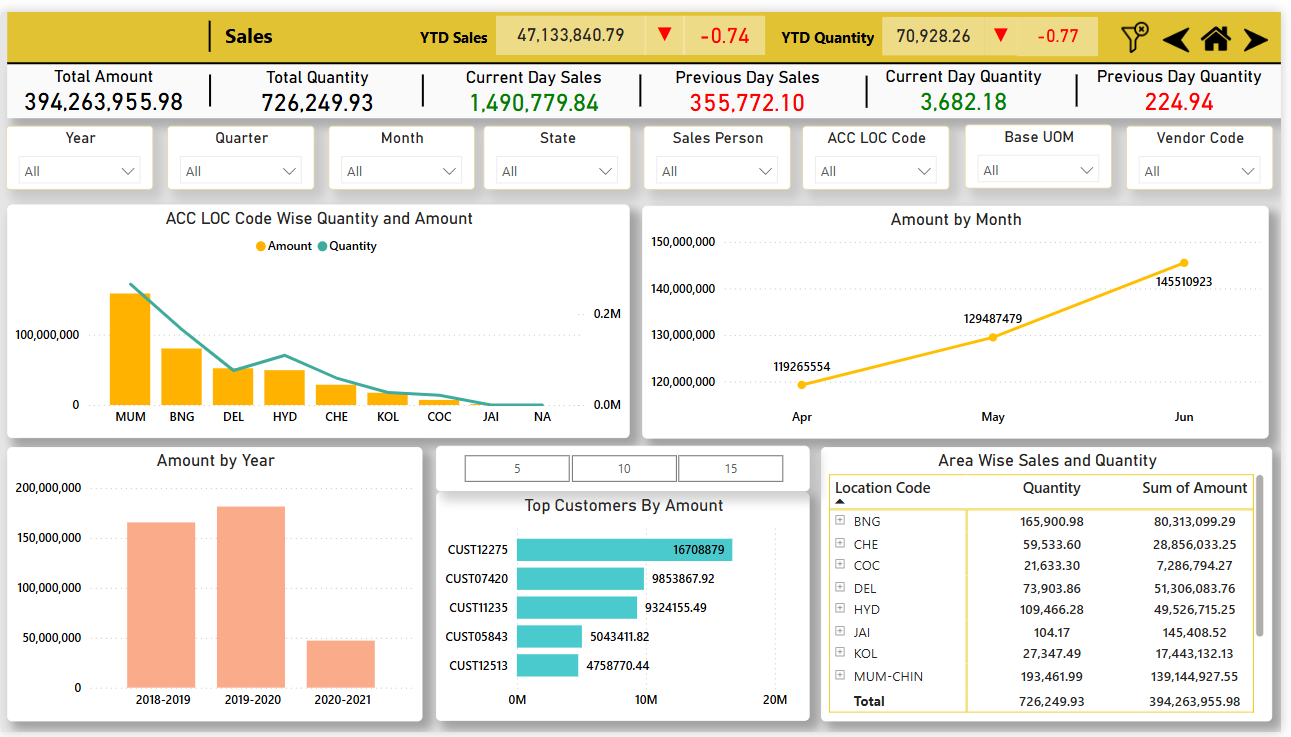

The page's visual inventory and layout, read from the dashboard file:
{"tool":"powerbi","page":{"name":"Sales","canvas":[1280,720],"ordinal":1},"visuals":[{"type":"shape","box":[6.2,51.2,1273.8,55],"z":0},{"type":"shape","box":[6.2,0,1273.8,51.2],"z":500},{"type":"shape","box":[196.2,8.8,25,31.2],"z":1000},{"type":"actionButton","box":[220,3.8,127.5,37.5],"z":2000},{"type":"card","fields":{"Values":["Dax.YTD Sales"]},"box":[495.3,4.3,149.7,39.6],"z":3000},{"type":"card","fields":{"Values":["Dax.YTD Quantity Indicator"]},"box":[983.8,5.3,32.5,38.8],"z":3000,"group":"g1"},{"type":"card","fields":{"Values":["Dax.YTD Sales Indicator"]},"box":[643.6,4.3,40,39],"z":4000,"group":"g2"},{"type":"card","fields":{"Values":["Dax.YTD Quantity"]},"box":[881.2,5,102.5,38.8],"z":4000},{"type":"actionButton","box":[415,5,80,40],"z":5000},{"type":"card","fields":{"Values":["Dax.YTD Varians in %"]},"box":[682.3,4.3,81.7,39],"z":5001,"group":"g2"},{"type":"card","fields":{"Values":["Dax.YTD Quantity Variance in %"]},"box":[1015.9,5.4,81,39],"z":5002,"group":"g1"},{"type":"actionButton","box":[776.2,5,102.5,40],"z":6000},{"type":"image","box":[1195.1,5.2,40,43.9],"z":7000},{"type":"image","box":[1156.4,10.3,37.4,36.1],"z":8000},{"type":"image","box":[1235.1,11.6,40,33.6],"z":9000},{"type":"card","title":"Total Amount","fields":{"Values":["Sum(Sales_Data.Amount)"]},"box":[6.5,54.3,192.7,50.4],"z":10000},{"type":"card","title":"Total Quantity","fields":{"Values":["Sum(Sales_Data.Quantity)"]},"box":[219.8,55.6,192.7,50.4],"z":11000},{"type":"card","title":"Current Day Sales","fields":{"Values":["Dax.Current Day Sales"]},"box":[435.8,55.6,192.7,50.4],"z":12000},{"type":"card","title":"Current Day Quantity","fields":{"Values":["Dax.Current Day Quantity"]},"box":[866.4,54.3,192.7,50.4],"z":13000},{"type":"card","title":"Previous Day Quantity","fields":{"Values":["Dax.Previous Day Quantity"]},"box":[1081.1,54.3,194,50.4],"z":14000},{"type":"card","title":"Previous Day Sales","fields":{"Values":["Dax.Previous Day Sales"]},"box":[650.5,55.6,192.7,50.4],"z":15000},{"type":"shape","box":[186.2,62.1,45.3,32.3],"z":16000},{"type":"shape","box":[395.7,62.1,51.7,32.3],"z":17000},{"type":"shape","box":[614.3,62.1,51.7,32.3],"z":18000},{"type":"shape","box":[840.6,63.4,51.7,32.3],"z":19000},{"type":"shape","box":[1050.1,62.1,51.7,32.3],"z":20000},{"type":"image","box":[1110.9,5.2,45.3,41.4],"z":21000},{"type":"slicer","title":"Year","fields":{"Values":["Fiscal Year.Year"]},"box":[4.6,113.8,147.4,63.7],"z":22000},{"type":"slicer","title":"Quarter","fields":{"Values":["Fiscal Year.Quarter"]},"box":[165.7,113.8,147.4,63.7],"z":23000},{"type":"slicer","title":"Month","fields":{"Values":["Fiscal Year.Month"]},"box":[326.9,113.8,146.2,63.7],"z":24000},{"type":"slicer","title":"State","fields":{"Values":["Sales_Data.State"]},"box":[483,113.8,147.4,63.7],"z":25000},{"type":"slicer","title":"Sales Person","fields":{"Values":["Sales_Data.Sales Person"]},"box":[642.9,113.8,147.4,63.7],"z":26000},{"type":"slicer","title":"ACC LOC Code","fields":{"Values":["Sales_Data.ACC LOC Code"]},"box":[801.6,113.8,147.4,63.7],"z":27000},{"type":"slicer","title":"Base UOM","fields":{"Values":["Sales_Data.Base UOM"]},"box":[964,112.5,147.4,63.7],"z":28000},{"type":"slicer","title":"Vendor Code","fields":{"Values":["Sales_Data.Vendor Code"]},"box":[1125.2,113.8,147.4,63.7],"z":29000},{"type":"lineStackedColumnComboChart","title":"ACC LOC Code Wise Quantity and Amount","fields":{"Category":["Sales_Data.ACC LOC Code"],"Y":["Sum(Sales_Data.Amount)"],"Y2":["Sum(Sales_Data.Quantity)"]},"box":[6.1,192,622.4,233.6],"z":30000},{"type":"lineChart","fields":{"Category":["Fiscal Year.Month"],"Y":["Sum(Sales_Data.Amount)"]},"box":[641.2,193.8,626.2,232.5],"z":31000},{"type":"columnChart","title":"Amount by Year","fields":{"Category":["Fiscal Year.Year"],"Y":["Sum(Sales_Data.Amount)"]},"box":[6.5,434.5,415.1,274.2],"z":32000},{"type":"barChart","title":"Top Customers By Amount","fields":{"Category":["Sales_Data.Sell-to Customer No."],"Y":["Sum(Sales_Data.Amount)"]},"box":[435.6,479.6,373.9,229.1],"z":33000},{"type":"pivotTable","title":"Area Wise Sales and Quantity","fields":{"Rows":["Sales_Data.Location Code","Sales_Data.ACC LOC Code"],"Values":["Sum(Sales_Data.Quantity)","Sum(Sales_Data.Amount)"]},"box":[819.9,434.5,451.3,274.2],"z":34000},{"type":"slicer","fields":{"Values":["Rank Table.Top"]},"box":[435.5,434.3,374,45.8],"z":35000},{"type":"group","id":"g1","title":"Group 1","box":[983.8,5.3,113.1,39.1],"z":36000},{"type":"group","id":"g2","title":"Group 2","box":[643.6,4.3,120.4,39],"z":37000},{"type":"shape","box":[6.2,45,1273.8,12.5],"z":39000}]}

Visuals, with their boxes in screenshot pixels (x1, y1, x2, y2), scaled from the page's 1280x720 canvas onto the 1291x737 screenshot:
shape: x1=6 y1=52 x2=1290 y2=109
shape: x1=6 y1=0 x2=1290 y2=52
shape: x1=198 y1=9 x2=223 y2=41
actionButton: x1=222 y1=4 x2=350 y2=42
card - Dax.YTD Sales: x1=500 y1=4 x2=651 y2=45
card - Dax.YTD Quantity Indicator: x1=992 y1=5 x2=1025 y2=45
card - Dax.YTD Sales Indicator: x1=649 y1=4 x2=689 y2=44
card - Dax.YTD Quantity: x1=889 y1=5 x2=992 y2=45
actionButton: x1=419 y1=5 x2=499 y2=46
card - Dax.YTD Varians in %: x1=688 y1=4 x2=771 y2=44
card - Dax.YTD Quantity Variance in %: x1=1025 y1=6 x2=1106 y2=45
actionButton: x1=783 y1=5 x2=886 y2=46
image: x1=1205 y1=5 x2=1246 y2=50
image: x1=1166 y1=11 x2=1204 y2=47
image: x1=1246 y1=12 x2=1286 y2=46
"Total Amount" card: x1=7 y1=56 x2=201 y2=107
"Total Quantity" card: x1=222 y1=57 x2=416 y2=109
"Current Day Sales" card: x1=440 y1=57 x2=634 y2=109
"Current Day Quantity" card: x1=874 y1=56 x2=1068 y2=107
"Previous Day Quantity" card: x1=1090 y1=56 x2=1286 y2=107
"Previous Day Sales" card: x1=656 y1=57 x2=850 y2=109
shape: x1=188 y1=64 x2=233 y2=97
shape: x1=399 y1=64 x2=451 y2=97
shape: x1=620 y1=64 x2=672 y2=97
shape: x1=848 y1=65 x2=900 y2=98
shape: x1=1059 y1=64 x2=1111 y2=97
image: x1=1120 y1=5 x2=1166 y2=48
"Year" slicer: x1=5 y1=116 x2=153 y2=182
"Quarter" slicer: x1=167 y1=116 x2=316 y2=182
"Month" slicer: x1=330 y1=116 x2=477 y2=182
"State" slicer: x1=487 y1=116 x2=636 y2=182
"Sales Person" slicer: x1=648 y1=116 x2=797 y2=182
"ACC LOC Code" slicer: x1=808 y1=116 x2=957 y2=182
"Base UOM" slicer: x1=972 y1=115 x2=1121 y2=180
"Vendor Code" slicer: x1=1135 y1=116 x2=1284 y2=182
"ACC LOC Code Wise Quantity and Amount" lineStackedColumnComboChart: x1=6 y1=197 x2=634 y2=436
lineChart - Fiscal Year.Month x Sum(Sales_Data.Amount): x1=647 y1=198 x2=1278 y2=436
"Amount by Year" columnChart: x1=7 y1=445 x2=425 y2=725
"Top Customers By Amount" barChart: x1=439 y1=491 x2=816 y2=725
"Area Wise Sales and Quantity" pivotTable: x1=827 y1=445 x2=1282 y2=725
slicer - Rank Table.Top: x1=439 y1=445 x2=816 y2=491
"Group 1" group: x1=992 y1=5 x2=1106 y2=45
"Group 2" group: x1=649 y1=4 x2=771 y2=44
shape: x1=6 y1=46 x2=1290 y2=59
